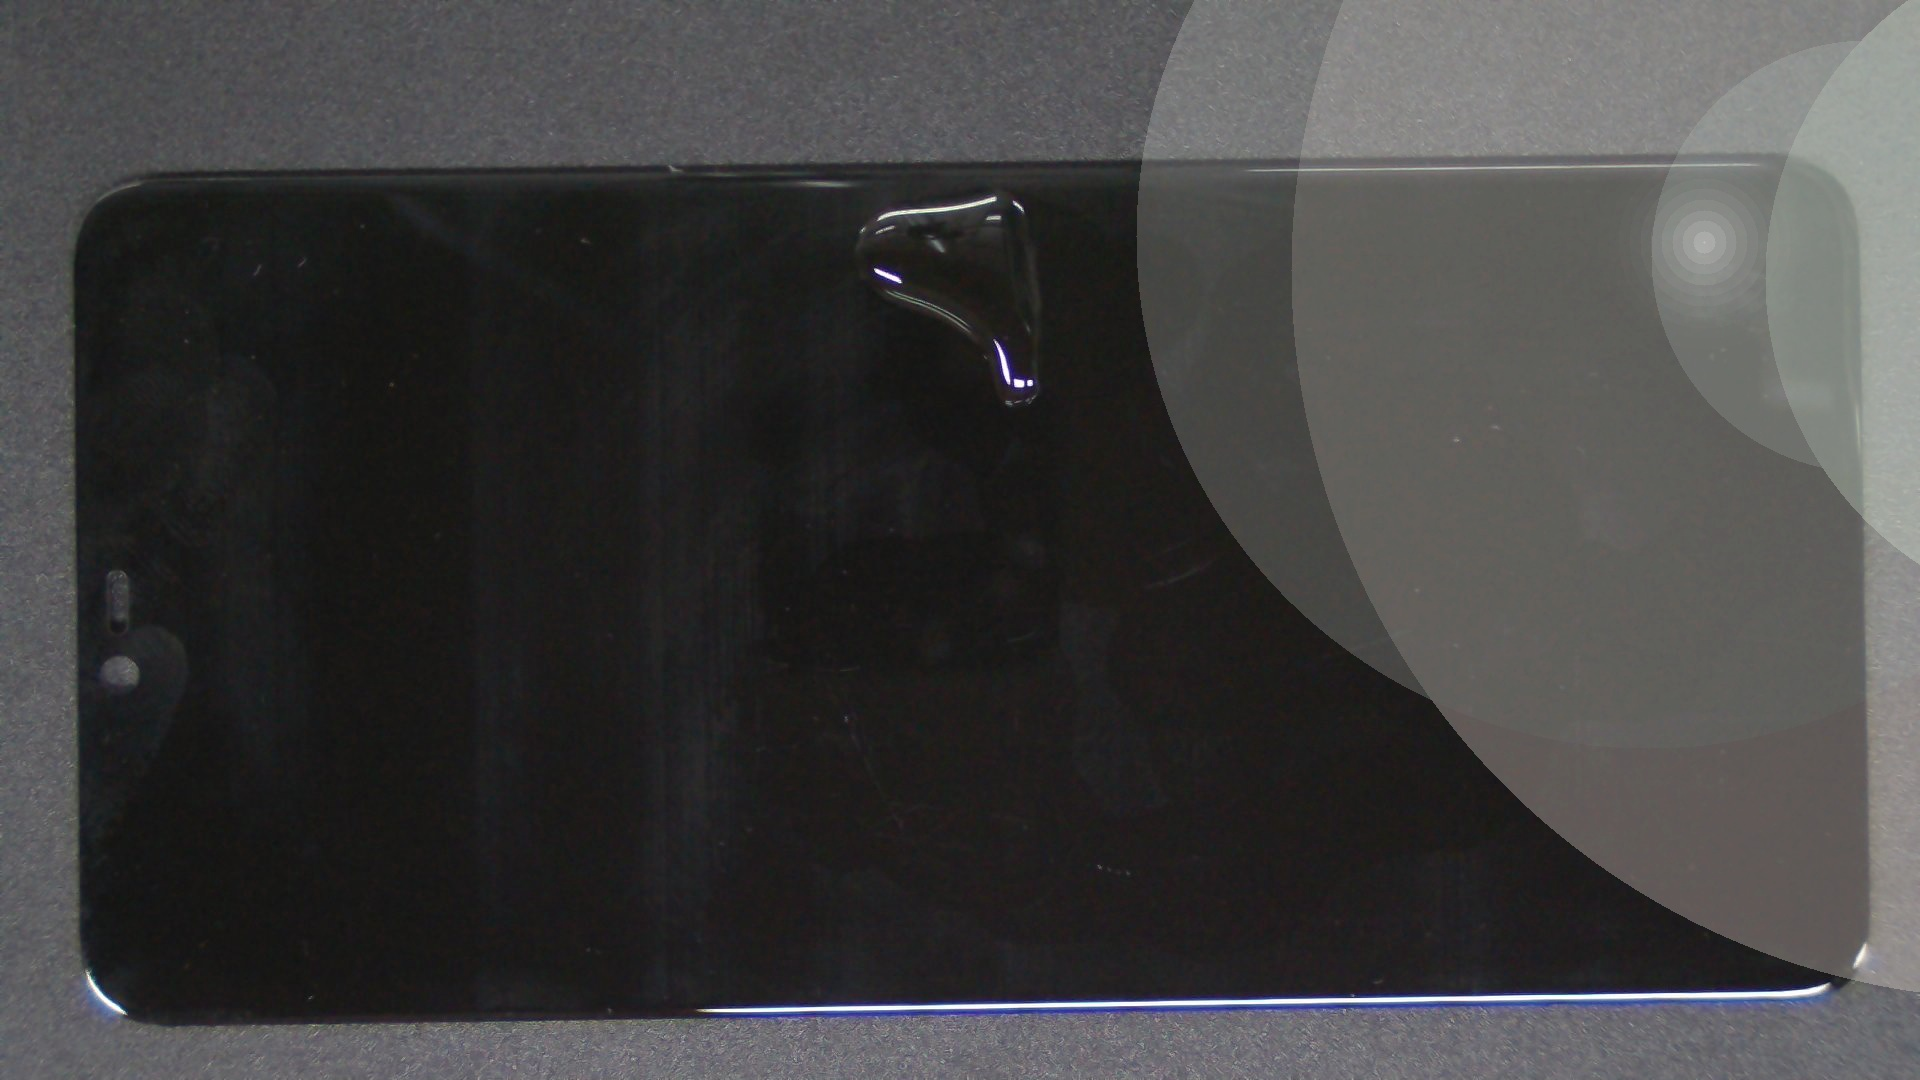oil: (502, 95, 1506, 287)
